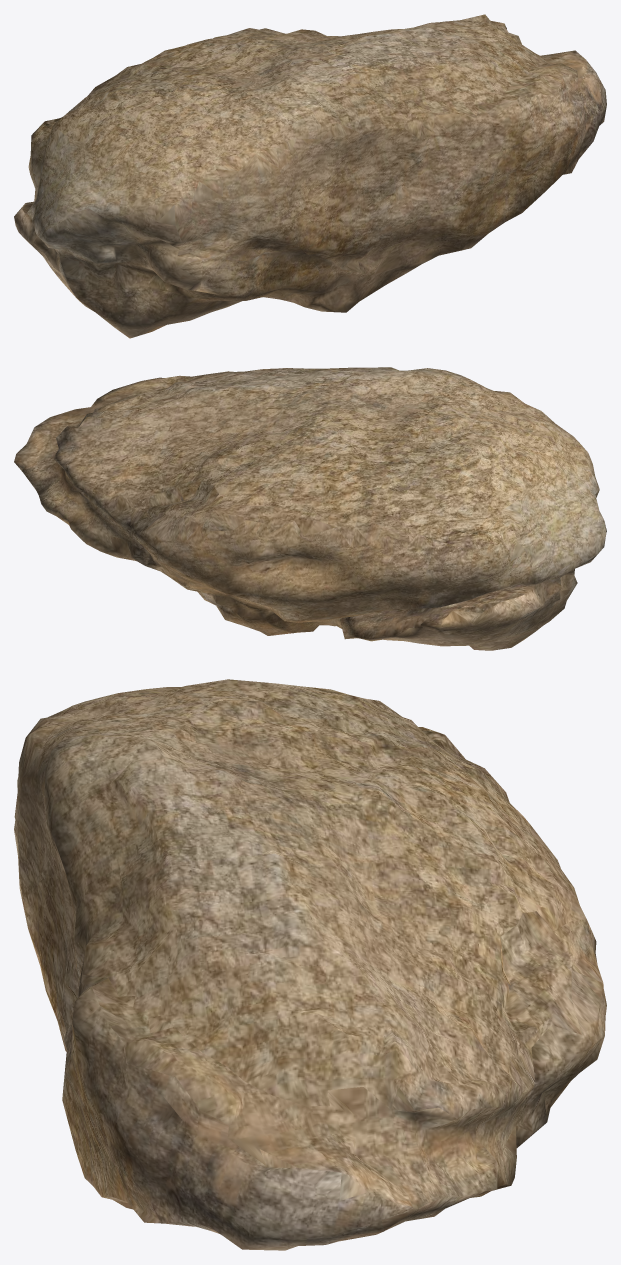
3 views of the same model, one above another, from view 1: azimuth 30°, elevation 25°; view 2: azimuth 150°, elevation 25°; view 3: azimuth 270°, elevation 25° (orthographic). The views are drawn at different scales.
Visible parts, largest first — view 1: namaqualand_boulder_05; view 2: namaqualand_boulder_05; view 3: namaqualand_boulder_05.
Part boxes in pixels (bbox=[...]): namaqualand_boulder_05: bbox=[14, 14, 606, 338]; namaqualand_boulder_05: bbox=[14, 367, 606, 650]; namaqualand_boulder_05: bbox=[14, 679, 606, 1250].
Size of the model in its own units: 1.36 by 0.5323 by 0.7408.
1 material, 1 textured.
